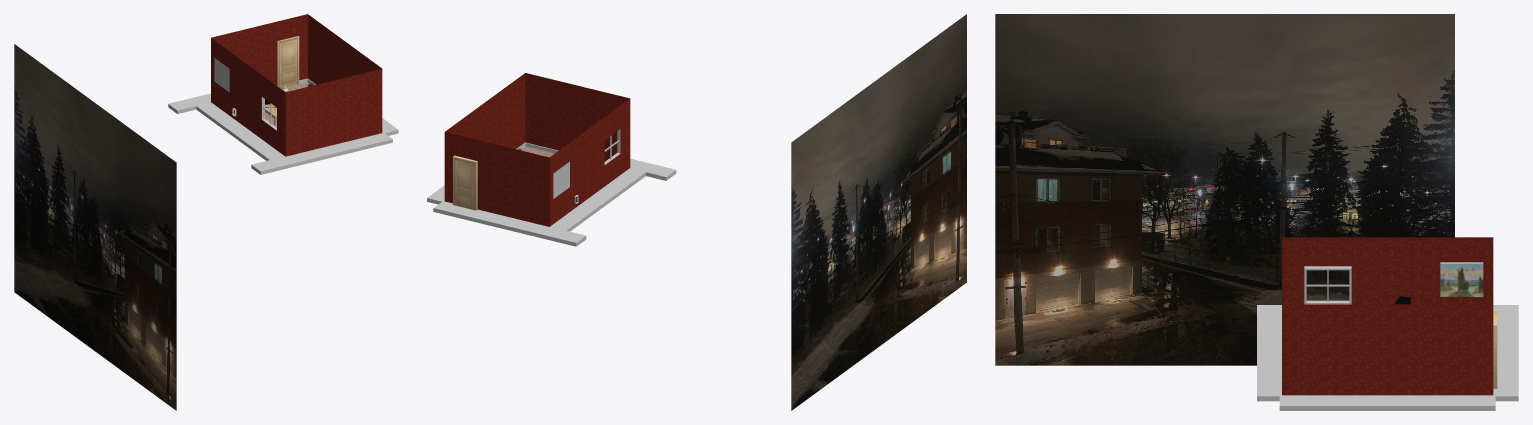
3 views of the same model, side by side, from view 1: azimuth 30°, elevation 25°; view 2: azimuth 150°, elevation 25°; view 3: azimuth 270°, elevation 25° (orthographic). The views are drawn at different scales.
Visible parts, largest first — view 1: Rain, Plane.057, Plane.005, Plane.052, Plane.001, Basseboard.003, Basseboard, Door, Basseboard.002, Painting1; view 2: Rain, Plane.052, Plane.057, Plane.005, Plane.001, Basseboard.002, Basseboard, Door, Basseboard.003; view 3: Rain, Plane.001, Plane.005, Basseboard.001, Basseboard.003, Basseboard.002, Painting1, Window.
Boxes of the visible parts, x1,y1,x2,y2 form: Rain: [14, 44, 176, 410]; Plane.057: [285, 69, 382, 156]; Plane.005: [211, 38, 285, 156]; Plane.052: [211, 14, 307, 85]; Plane.001: [308, 14, 381, 84]; Basseboard.003: [251, 133, 392, 174]; Basseboard: [195, 102, 284, 160]; Door: [277, 36, 299, 88]; Basseboard.002: [168, 78, 307, 113]; Painting1: [214, 58, 229, 92]; Rain: [791, 14, 966, 410]; Plane.052: [444, 132, 549, 226]; Plane.057: [525, 73, 629, 161]; Plane.005: [549, 98, 630, 226]; Plane.001: [445, 73, 525, 149]; Basseboard.002: [433, 201, 586, 246]; Basseboard: [550, 168, 645, 231]; Door: [453, 155, 477, 210]; Basseboard.003: [525, 142, 676, 180]; Rain: [995, 14, 1454, 365]; Plane.001: [1282, 304, 1493, 395]; Plane.005: [1282, 237, 1493, 304]; Basseboard.001: [1279, 395, 1495, 410]; Basseboard.003: [1257, 305, 1281, 401]; Basseboard.002: [1492, 305, 1518, 401]; Painting1: [1440, 262, 1483, 296]; Window: [1304, 266, 1351, 304].
Bounding box in the file's own units: 39.94 × 29.39 × 39.63.
Materials: 20 (12 with a texture image).
